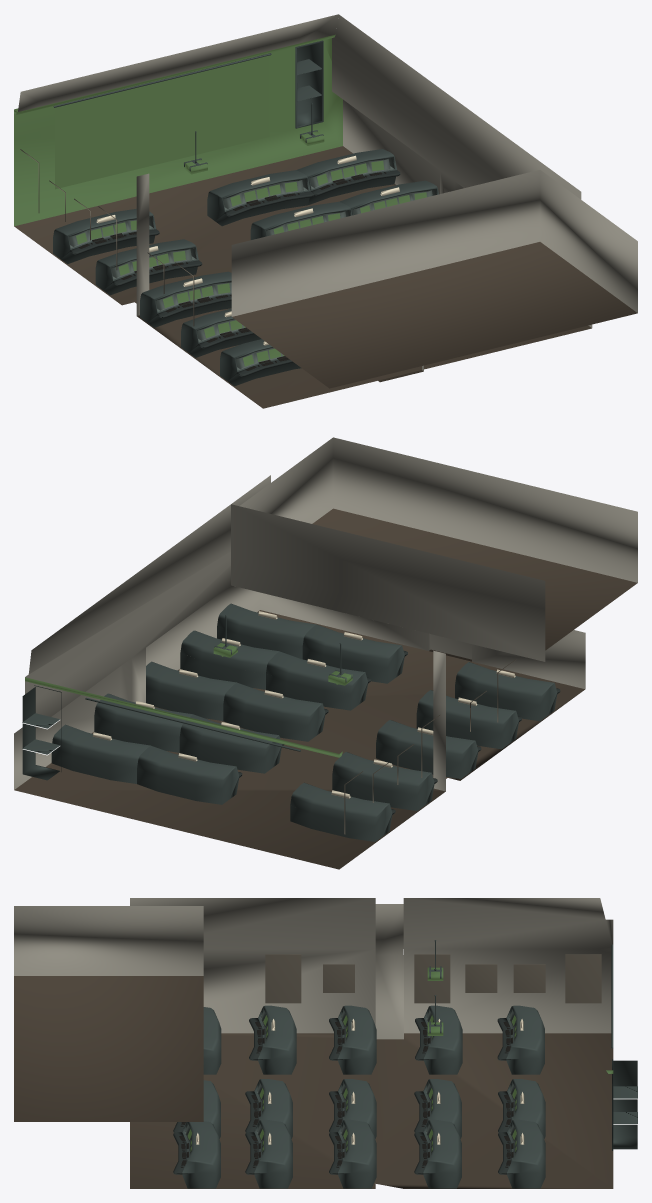
File: mission-control-room.glb
3 views of the same model, one above another, from view 1: azimuth 30°, elevation 25°; view 2: azimuth 150°, elevation 25°; view 3: azimuth 270°, elevation 25° (orthographic). The views are drawn at different scales.
Parts seen in each view (by area): view 1: jscmiscon1; view 2: jscmiscon1; view 3: jscmiscon1.
Part boxes in pixels (x1,y1,x2,y2): jscmiscon1: [14, 14, 637, 408]; jscmiscon1: [14, 437, 637, 869]; jscmiscon1: [14, 898, 637, 1188].
Size of the model in its own units: 14.51 by 5.89 by 24.56.
